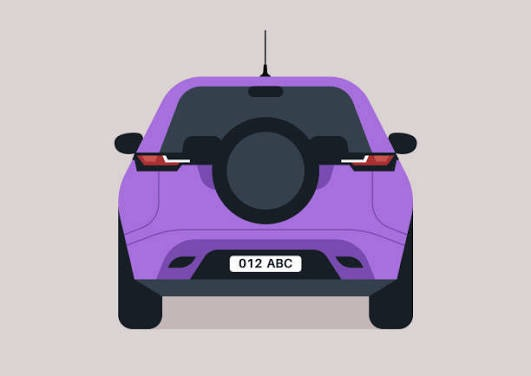car: (111, 67, 425, 332), (117, 69, 423, 336)
